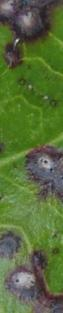Tomato Septoria leaf spot: (0, 10, 63, 303)
